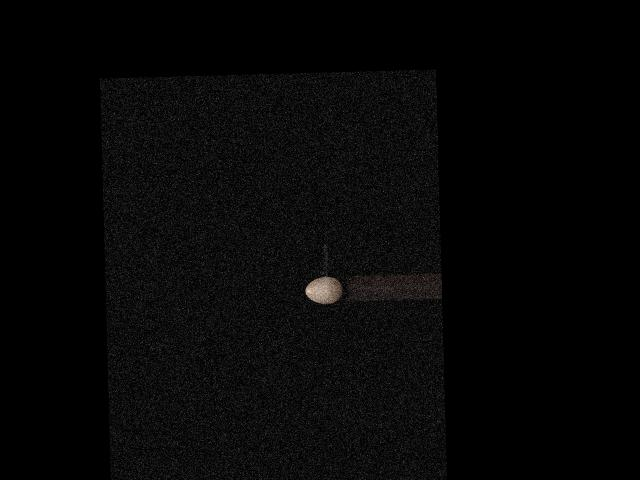egg: (305, 277, 343, 304)
